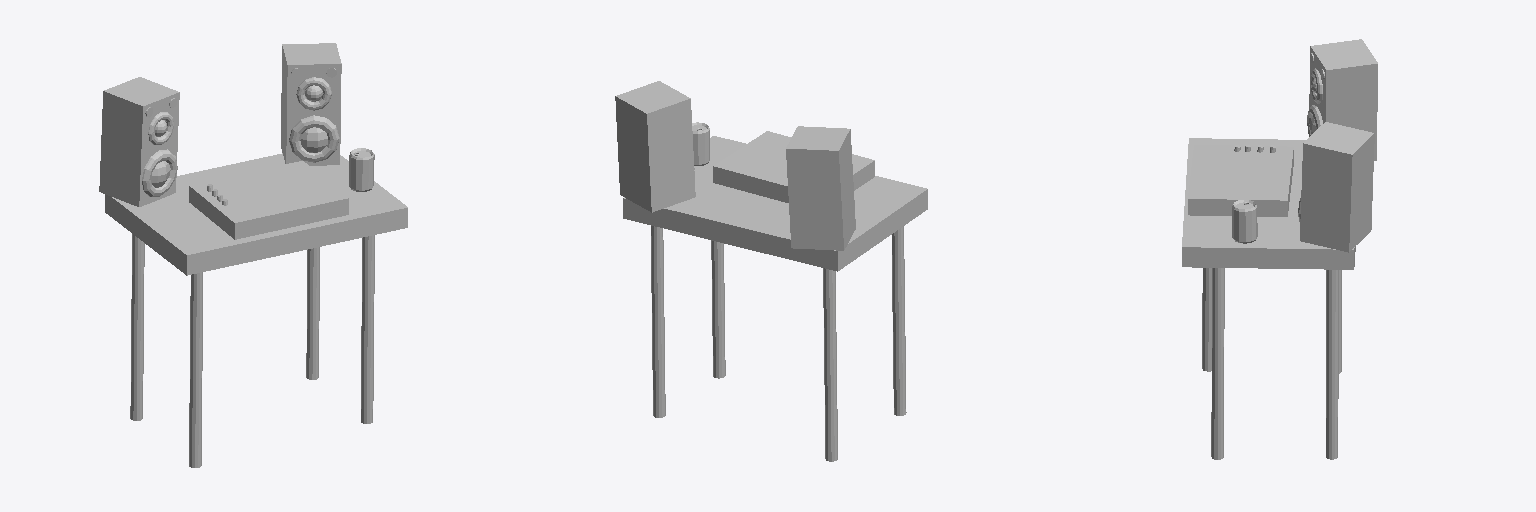
Rendered from desk-model.obj.
The picture shows the model from 3 angles: view 1: azimuth 30°, elevation 25°; view 2: azimuth 150°, elevation 25°; view 3: azimuth 270°, elevation 25°; orthographic projection.
Parts seen in each view (by area): view 1: group[number redacted], group[number redacted], group[number redacted], group[number redacted], group[number redacted]; view 2: group[number redacted], group[number redacted], group[number redacted], group[number redacted], group[number redacted]; view 3: group[number redacted], group[number redacted], group[number redacted], group[number redacted], group[number redacted].
Part boxes in pixels (x1,y1,x2,y2): group[number redacted]: (105,153,407,467); group[number redacted]: (99,77,179,206); group[number redacted]: (189,161,348,239); group[number redacted]: (281,43,341,165); group[number redacted]: (349,148,374,191); group[number redacted]: (623,136,927,461); group[number redacted]: (615,81,695,212); group[number redacted]: (786,126,855,250); group[number redacted]: (713,131,874,202); group[number redacted]: (692,122,709,165); group[number redacted]: (1182,138,1355,459); group[number redacted]: (1298,122,1374,252); group[number redacted]: (1188,145,1293,216); group[number redacted]: (1307,39,1377,160); group[number redacted]: (1232,200,1257,243).
Size of the model in its own units: 0.8518 by 1.13 by 0.6223.